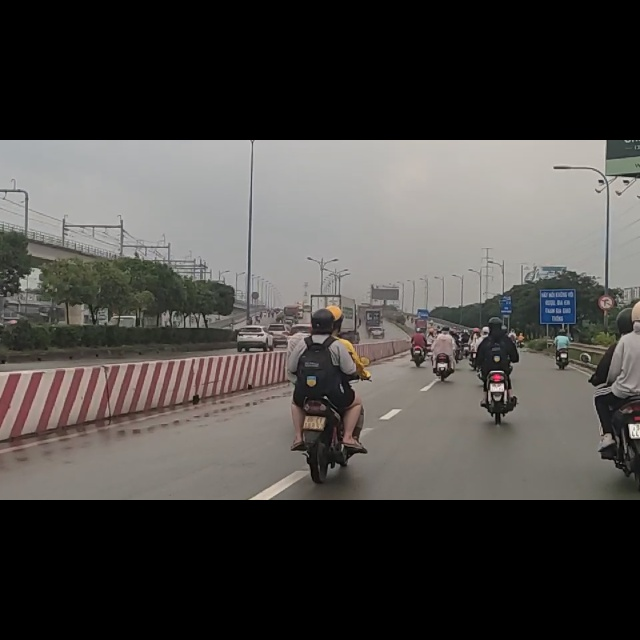bien_cam: (599, 275, 615, 306)
